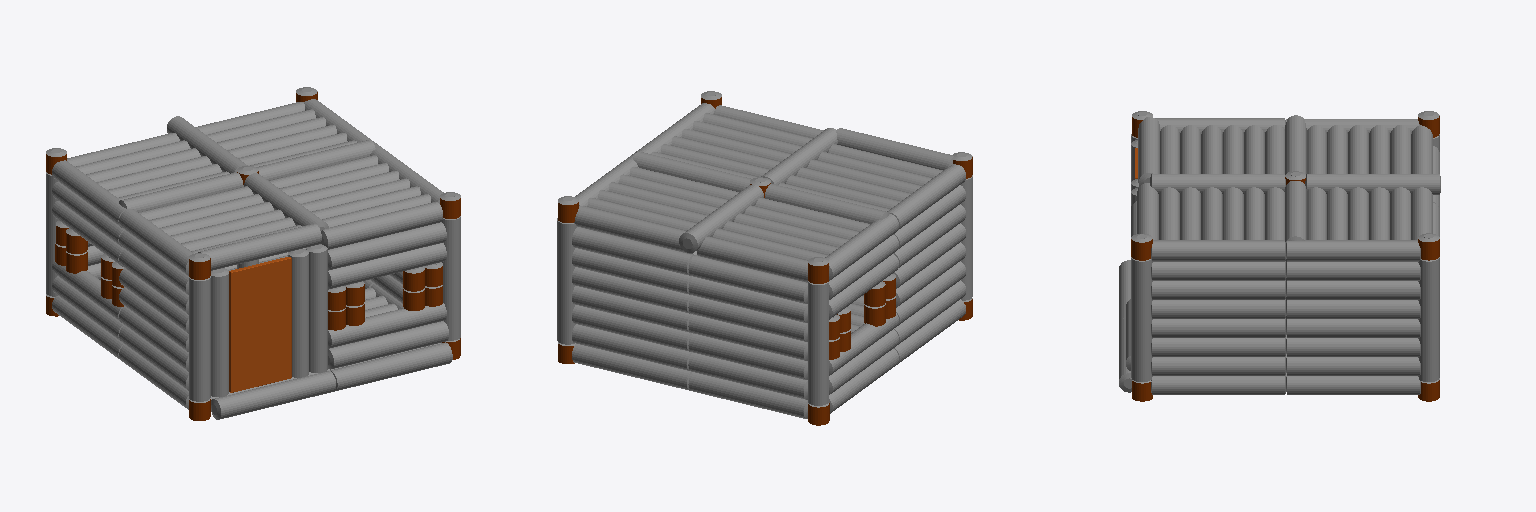
File: Log_House_Basic_OneMesh.obj
3 views of the same model, side by side, from view 1: azimuth 30°, elevation 25°; view 2: azimuth 150°, elevation 25°; view 3: azimuth 270°, elevation 25° (orthographic).
Visible parts, largest first — view 1: Log_Basic_OneMesh077, Box001; view 2: Log_Basic_OneMesh077; view 3: Log_Basic_OneMesh077.
Boxes of the visible parts, x1,y1,x2,y2 form: Log_Basic_OneMesh077: [46, 87, 460, 420]; Box001: [229, 257, 291, 392]; Log_Basic_OneMesh077: [557, 91, 972, 425]; Log_Basic_OneMesh077: [1119, 111, 1440, 401].
Bounding box in the file's own units: 1875 × 1083 × 1941.